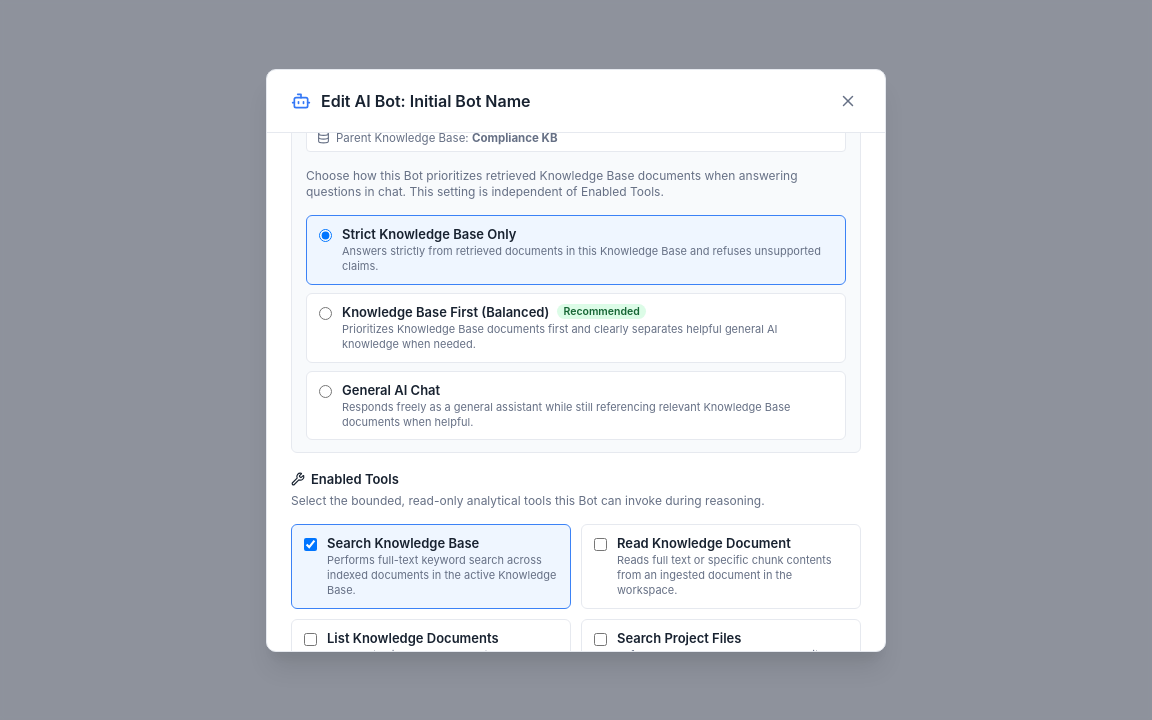
Renderer: EditBotModal (Phase 6 Step 6.5) › 7. loads existing responsePolicy, updates it without mutating tools, and does not retain failed draft on reopen
Later steps or results of the test are not shown.
(page scrolled)
Check: the element with test id "parent-kb-indicator" shows "Compliance KB", box [472,132,558,145]
Check: the 1st radio button is checked, box [319,229,332,242]
Click the 3rd radio button: (326, 391) [319,385,332,398]
(page scrolled)
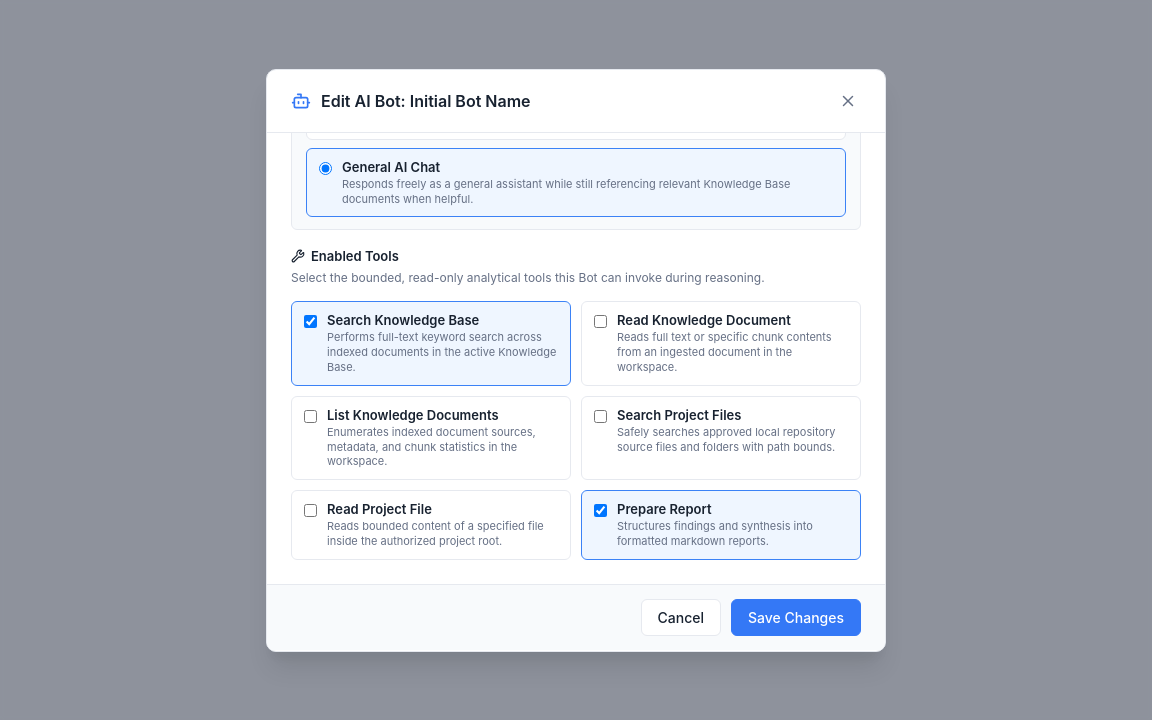
Click the button with test id "bot-form-submit-btn": (796, 618) [731,599,861,636]
(page scrolled)
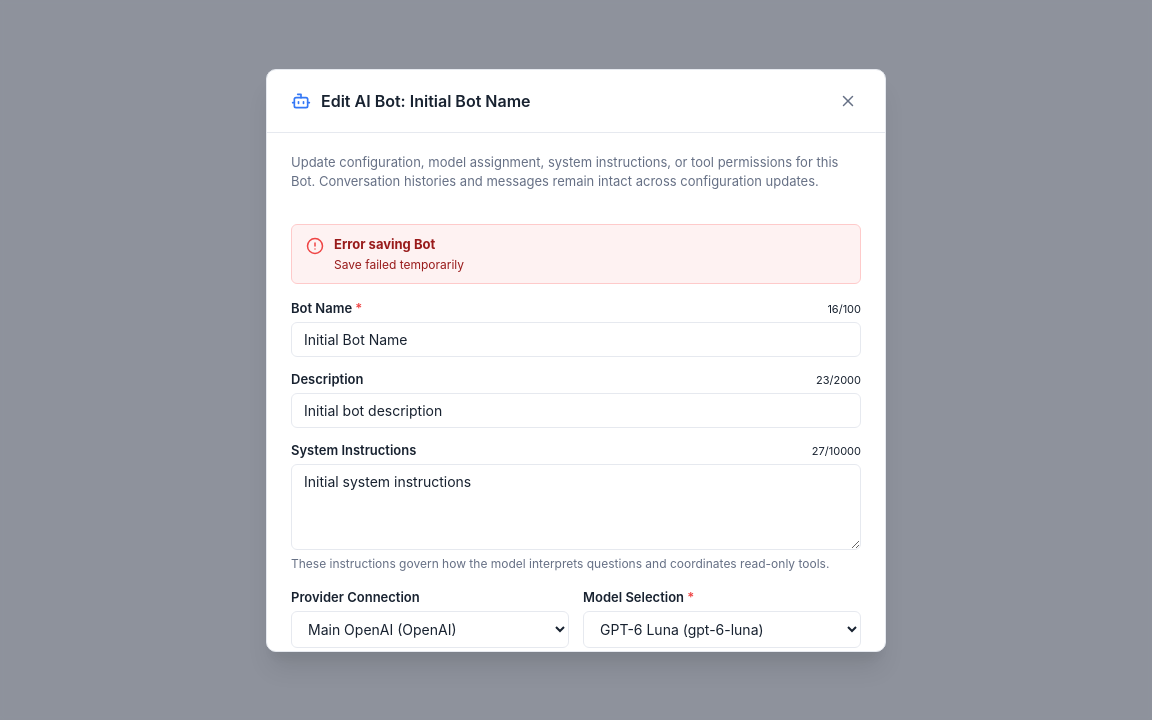
Check: the message with test id "bot-form-error" shows "Save failed temporarily", box [334,257,464,272]
